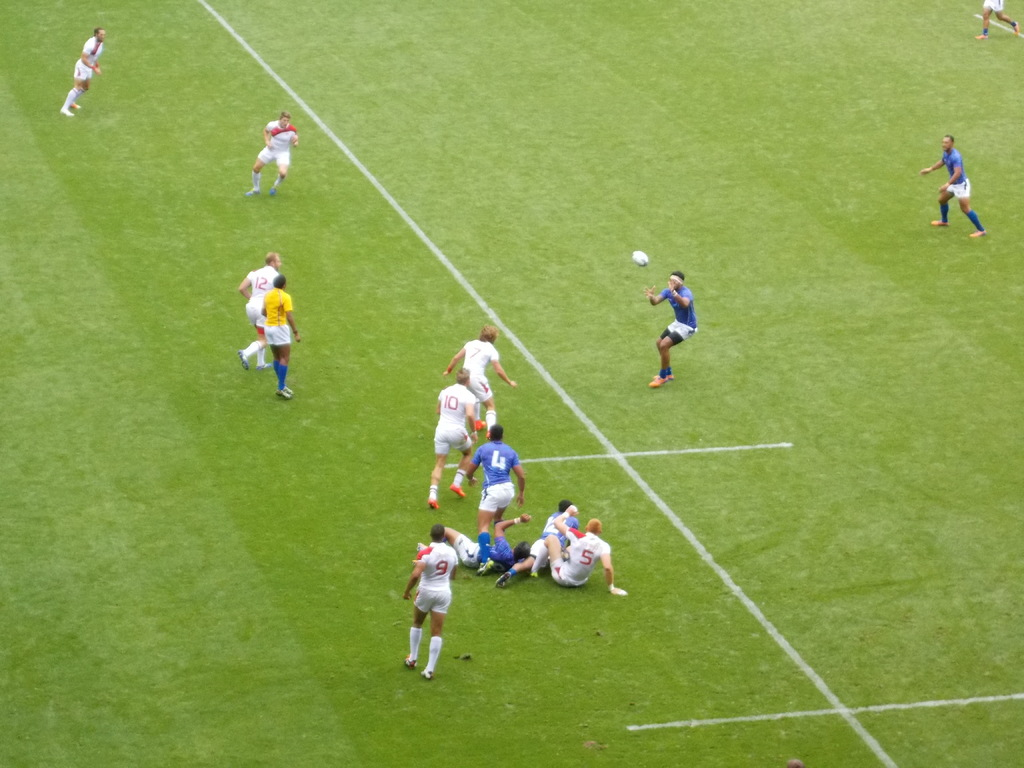Ball: (630, 252, 649, 266)
